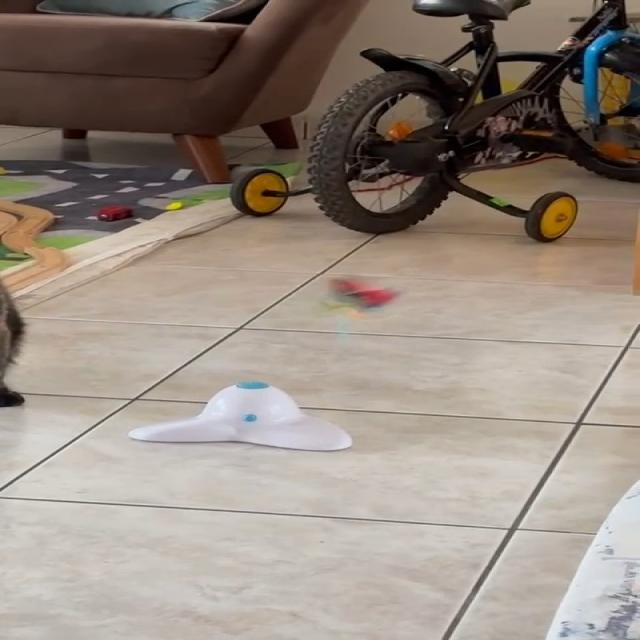authorized: (0, 277, 28, 408)
